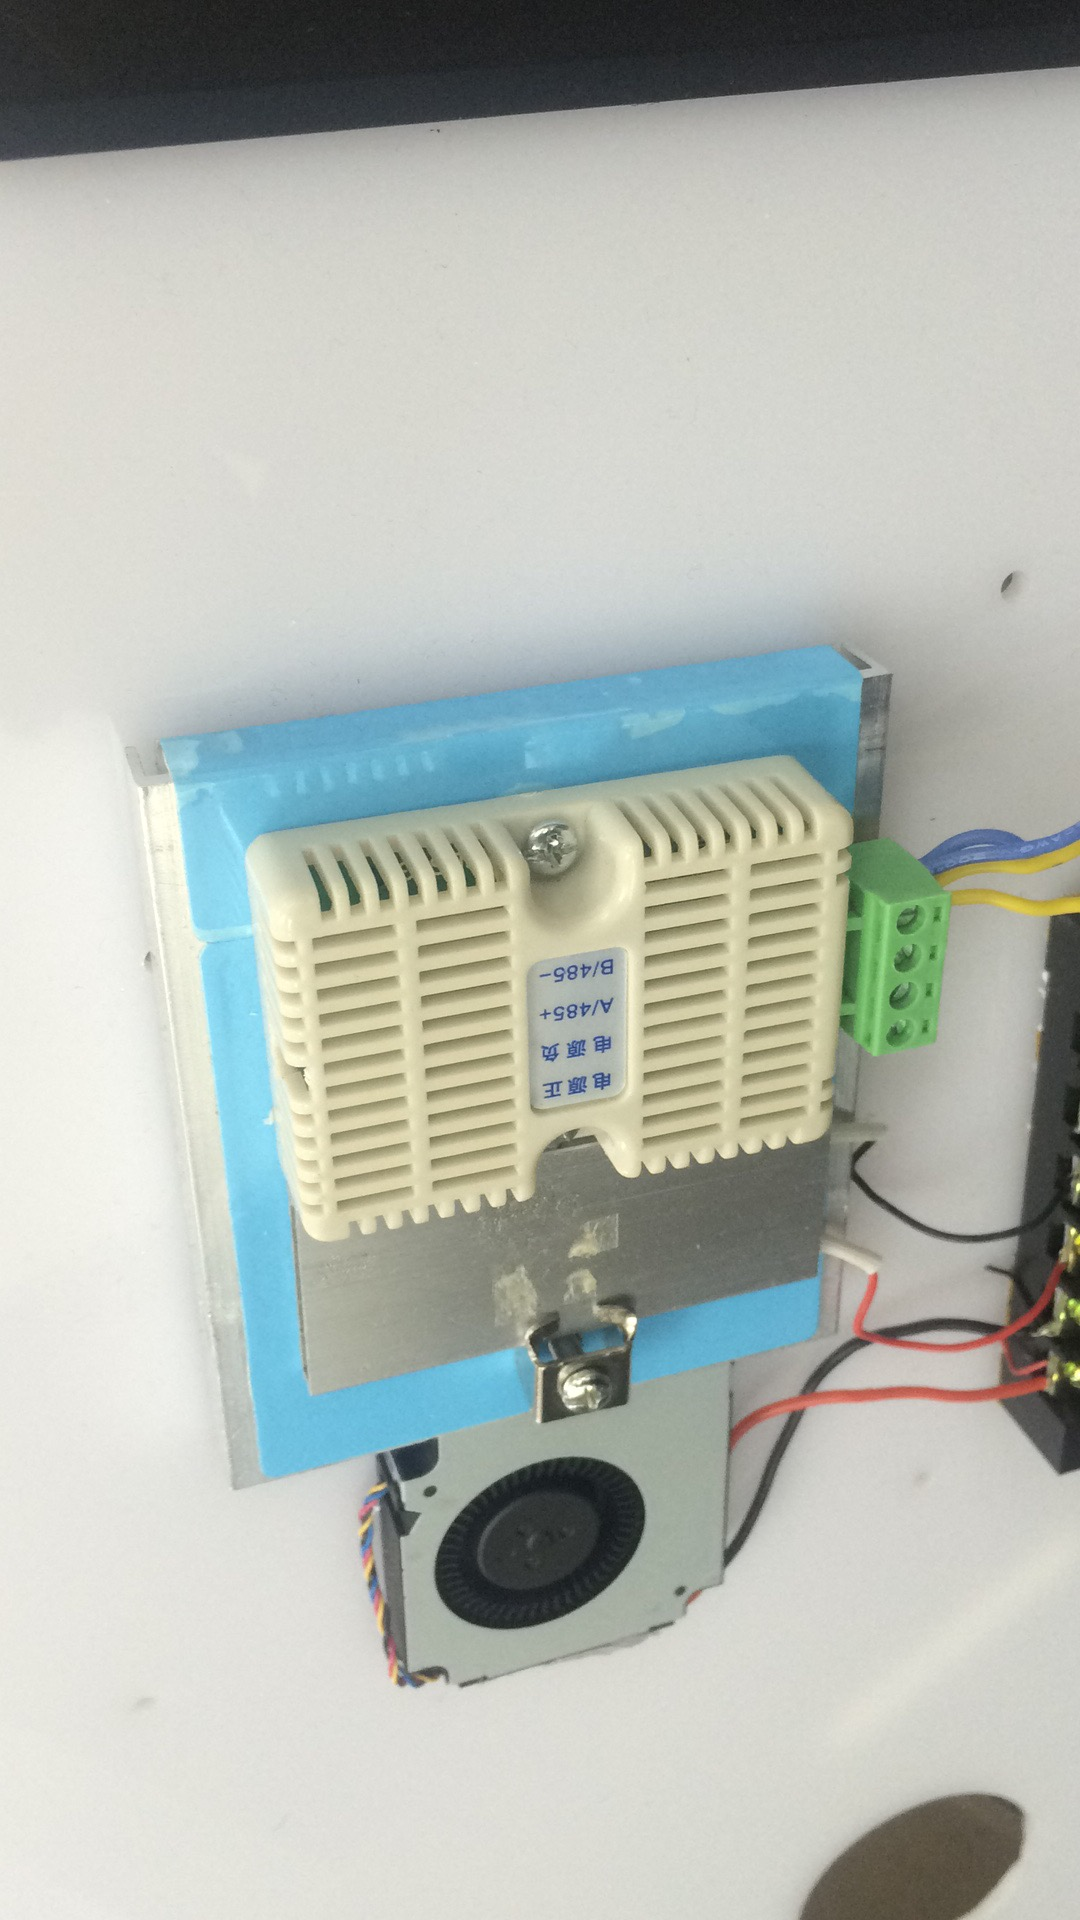fan: (378, 1451, 773, 1692)
heater: (289, 1228, 829, 1358)
temperature: (249, 758, 841, 1158)
